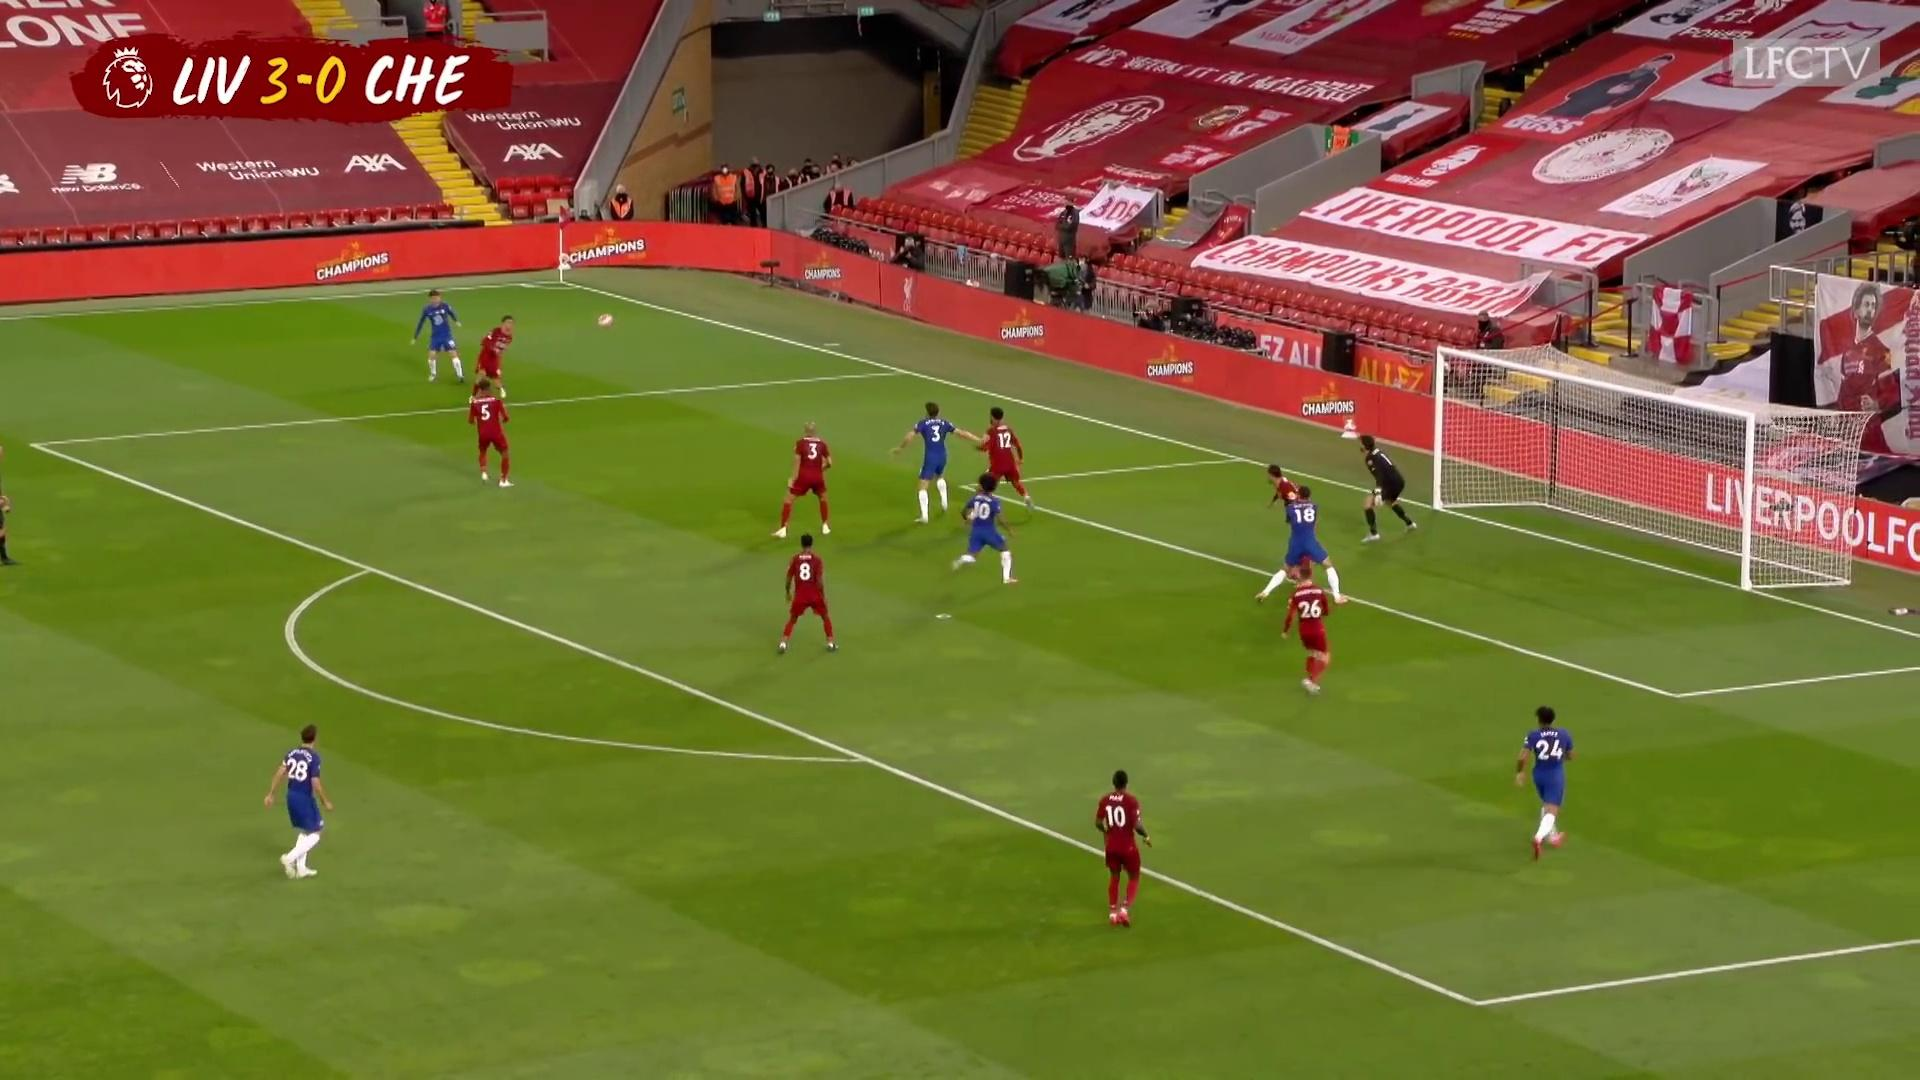ball: (597, 312, 616, 330)
